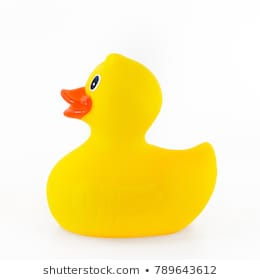duck: (26, 43, 227, 246)
